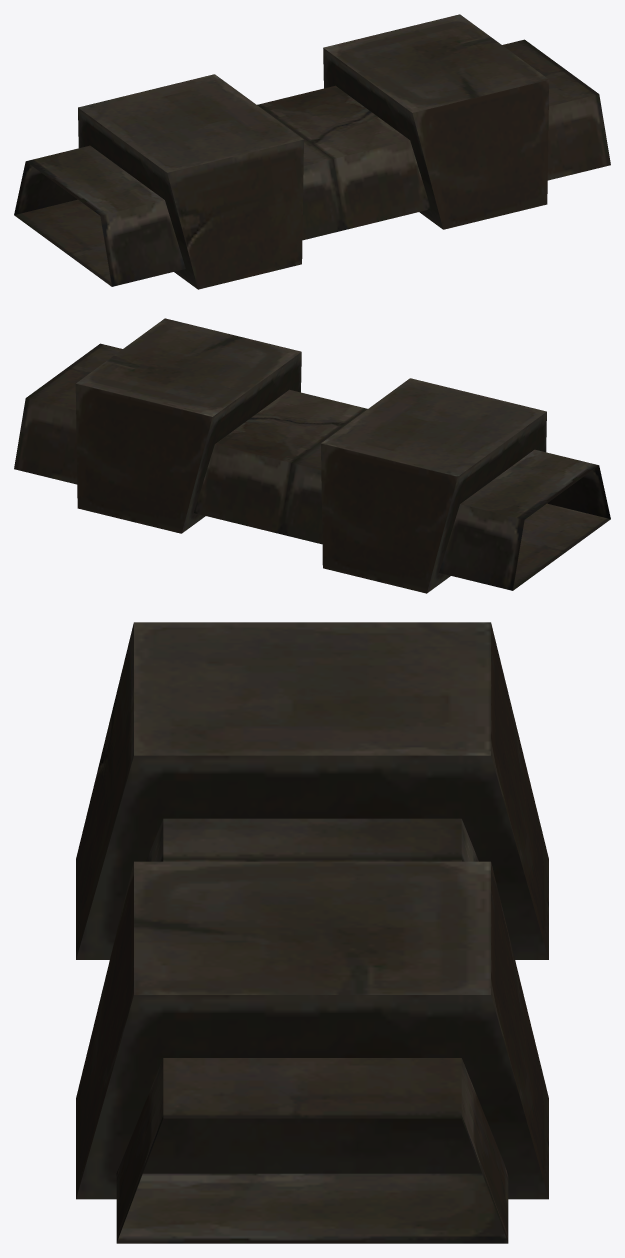
The model's file is fortress_cap_straight_01.fbx.
3 views of the same model, one above another, from view 1: azimuth 30°, elevation 25°; view 2: azimuth 150°, elevation 25°; view 3: azimuth 270°, elevation 25° (orthographic). The views are drawn at different scales.
Visible parts, largest first — view 1: fortress_tileset/Cap_01_mat; view 2: fortress_tileset/Cap_01_mat; view 3: fortress_tileset/Cap_01_mat.
Boxes of the visible parts, bbox=[...] form: fortress_tileset/Cap_01_mat: bbox=[14, 14, 610, 289]; fortress_tileset/Cap_01_mat: bbox=[14, 318, 610, 593]; fortress_tileset/Cap_01_mat: bbox=[76, 622, 548, 1243].
Size of the model in its own units: 4 by 0.8442 by 1.64.
